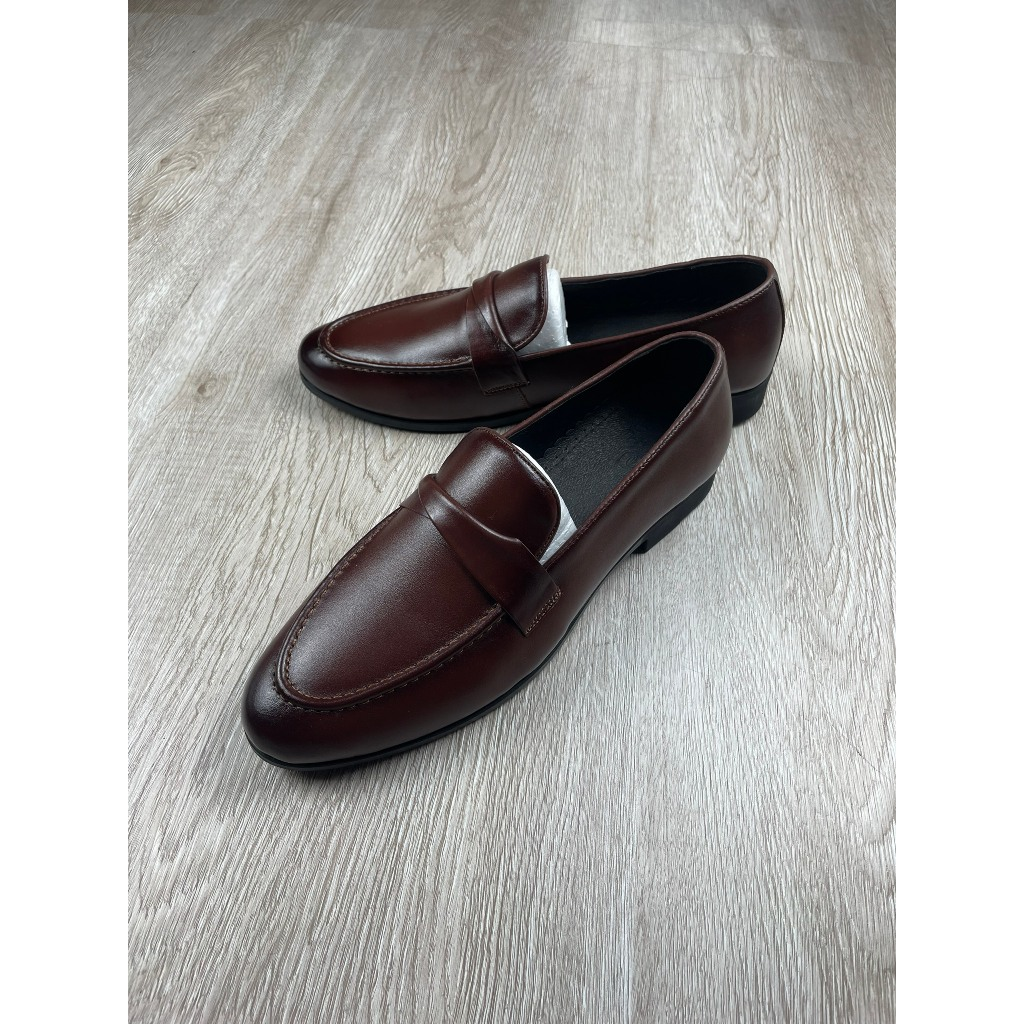loafers: (240, 330, 734, 778), (291, 253, 786, 432)
